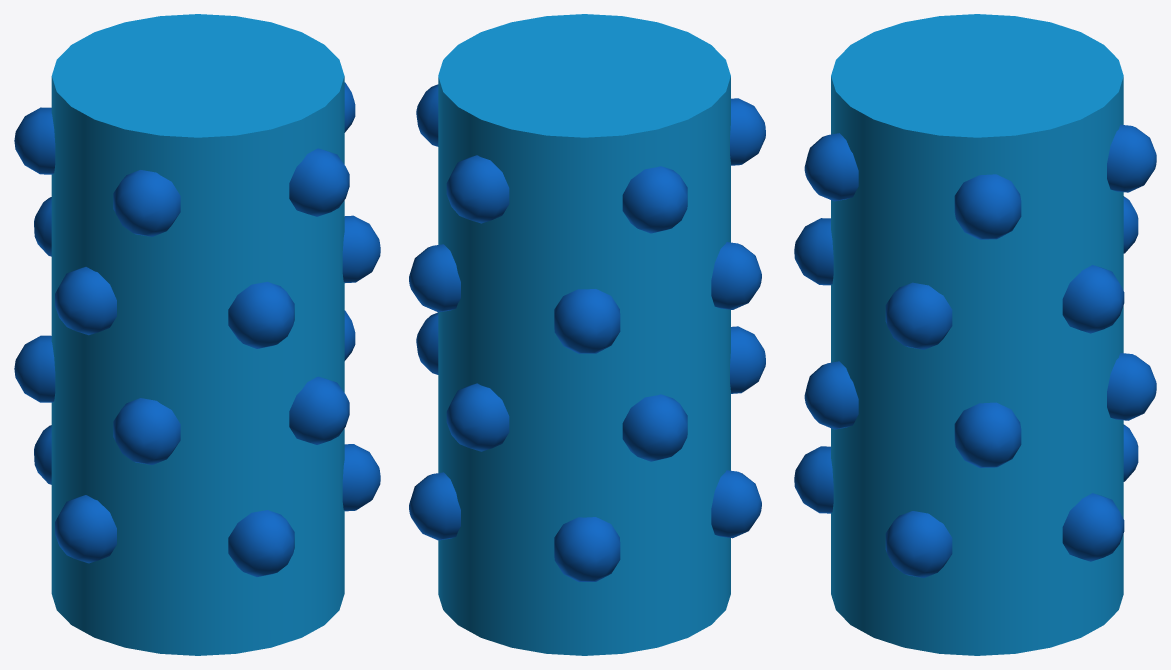
Rendered from rolling_blue.fbx.
The picture shows the model from 3 angles, left to right: view 1: azimuth 30°, elevation 25°; view 2: azimuth 150°, elevation 25°; view 3: azimuth 270°, elevation 25°; orthographic projection.
Visible parts, largest first — view 1: rolling_blue; view 2: rolling_blue; view 3: rolling_blue.
Part boxes in pixels (x1,y1,x2,y2): rolling_blue: (14, 14, 380, 655); rolling_blue: (409, 14, 765, 655); rolling_blue: (794, 14, 1156, 655).
Bounding box in the file's own units: 0.2035 × 0.3204 × 0.2031.
